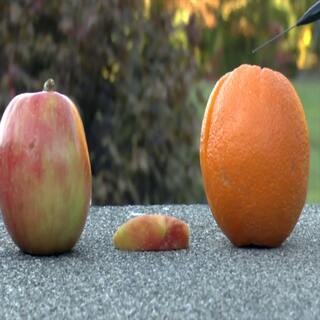apple: (1, 79, 180, 264)
orange: (190, 63, 314, 249)
